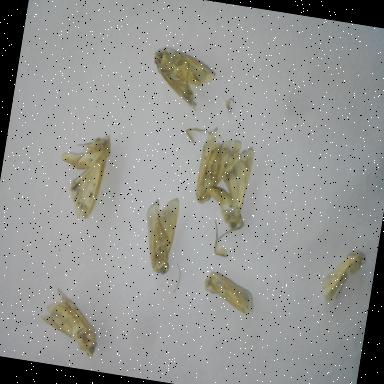abw: (48, 124, 116, 228), (142, 41, 222, 118), (32, 282, 108, 362), (190, 124, 246, 212), (134, 190, 184, 280), (314, 242, 370, 311), (197, 266, 259, 320)
